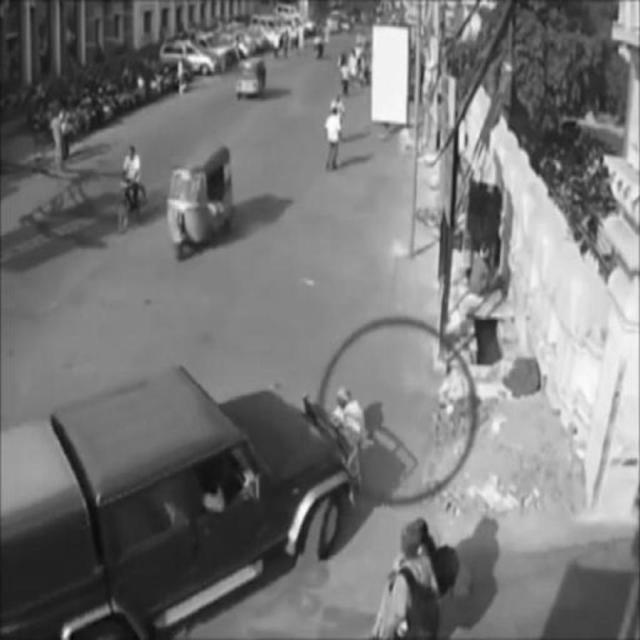accident: (1, 378, 369, 626)
person: (323, 109, 343, 171)
vehicle: (167, 141, 234, 259), (110, 143, 150, 231), (236, 56, 264, 96)
